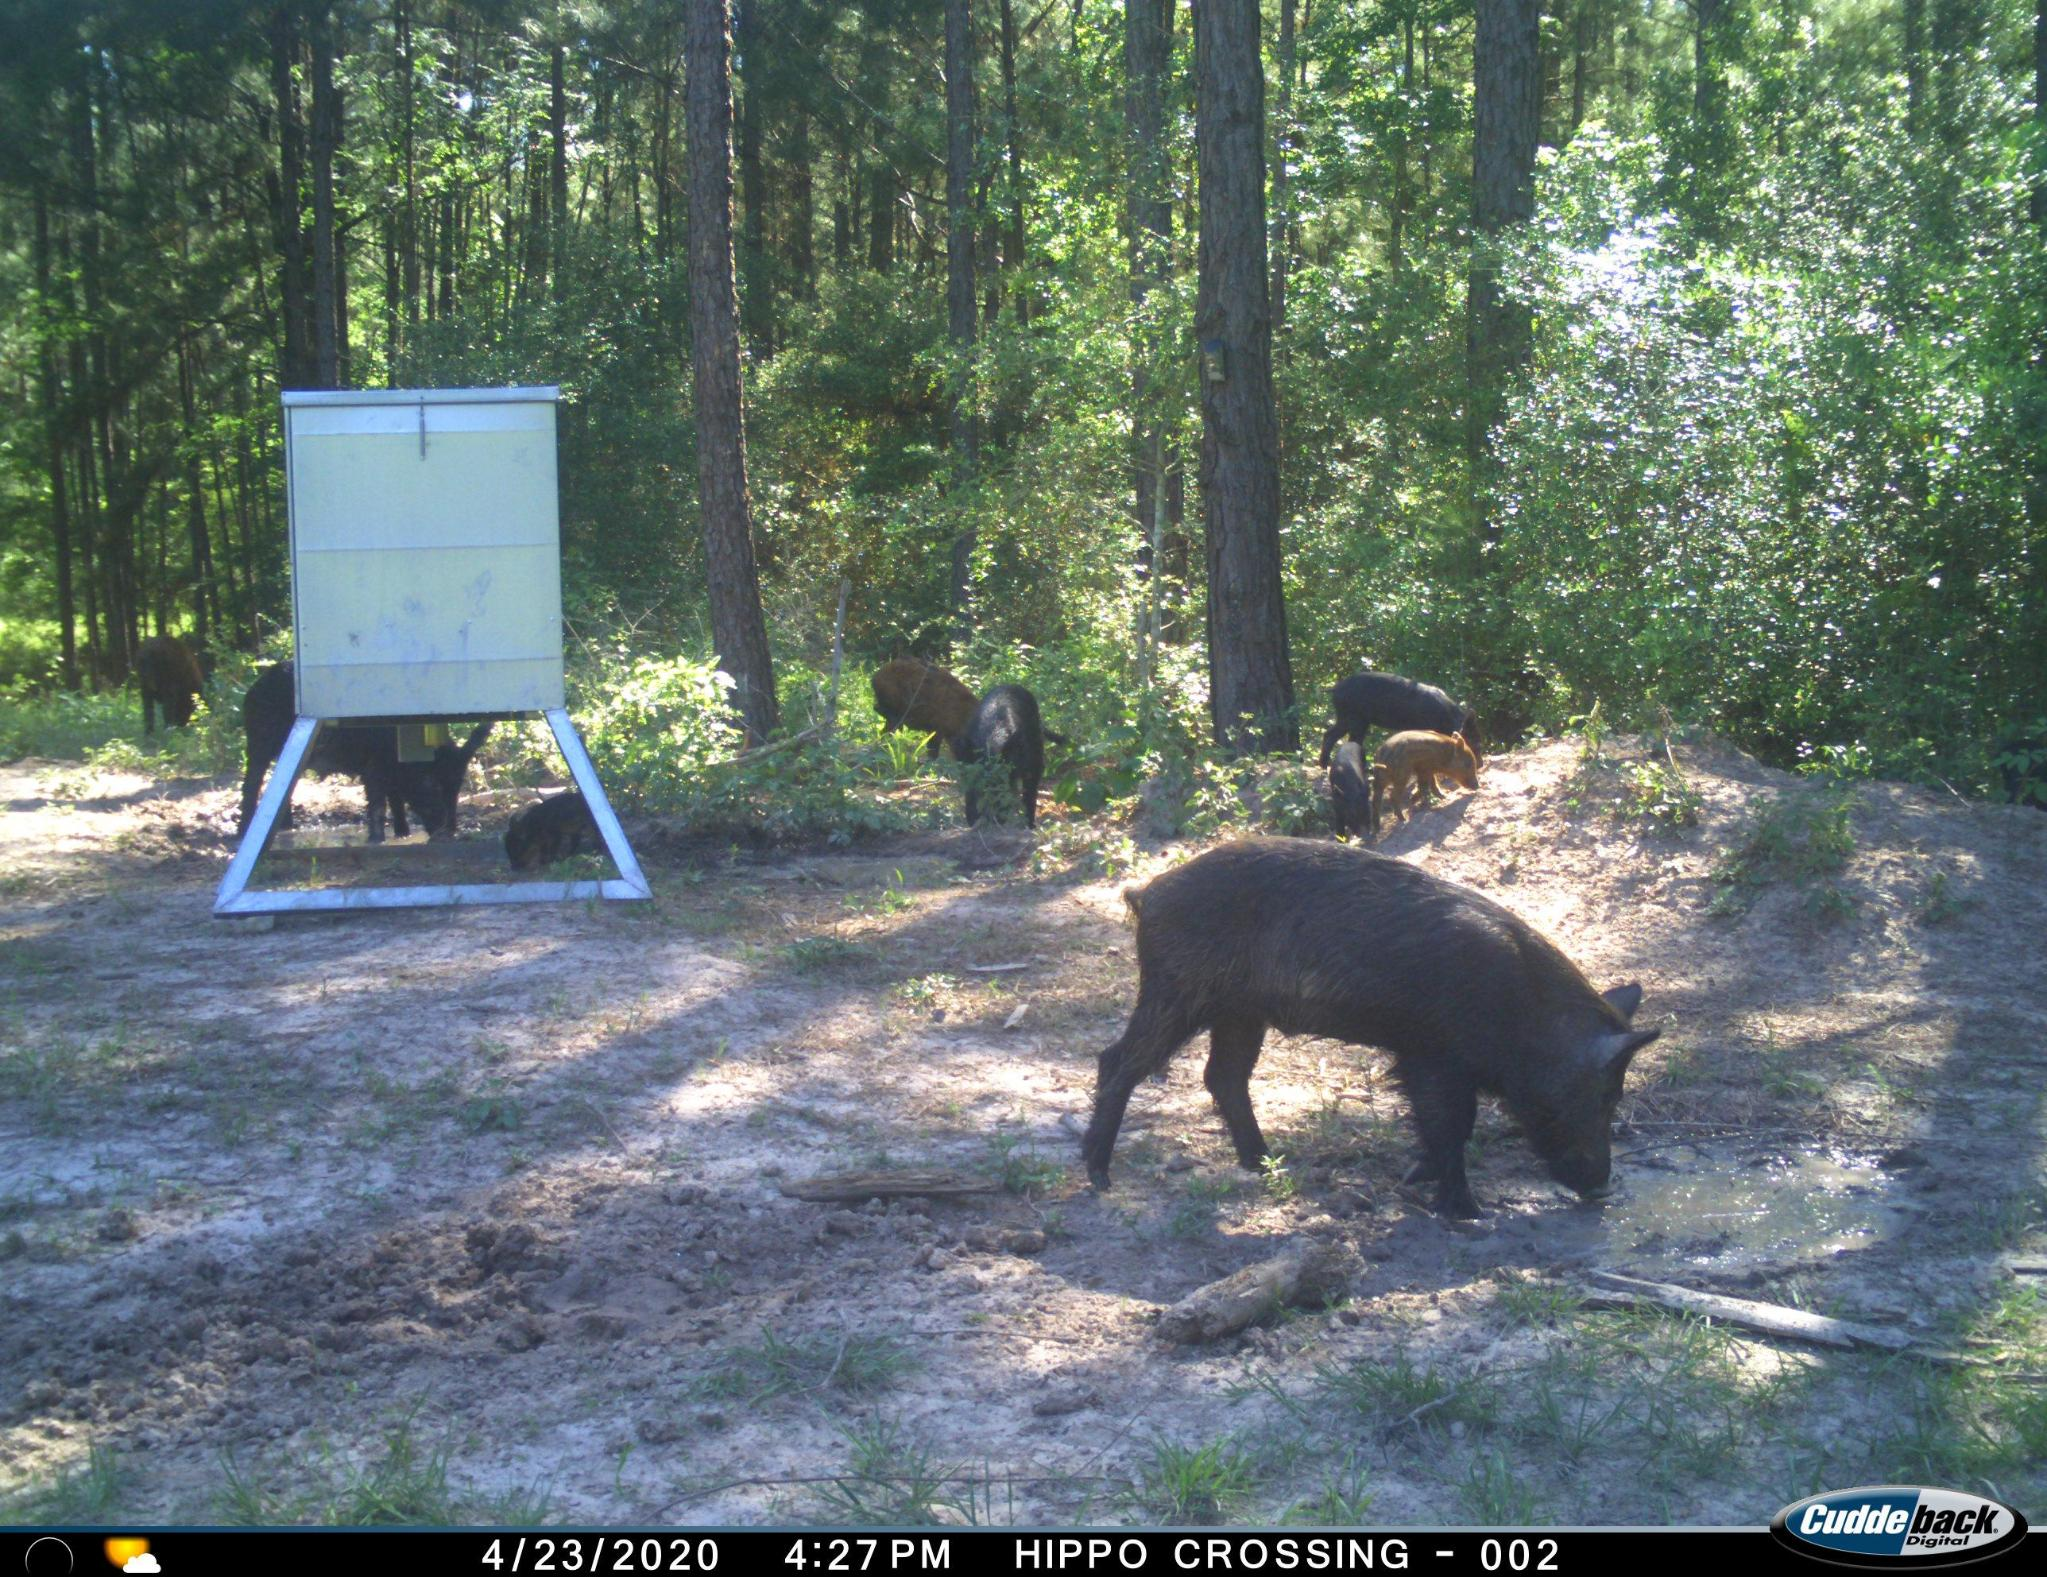Hog: (1068, 832, 1673, 1246), (228, 648, 478, 846), (1317, 667, 1491, 777), (867, 652, 996, 796), (966, 674, 1057, 832), (1370, 718, 1482, 826), (124, 626, 214, 744), (501, 776, 597, 876), (1326, 728, 1370, 842)
